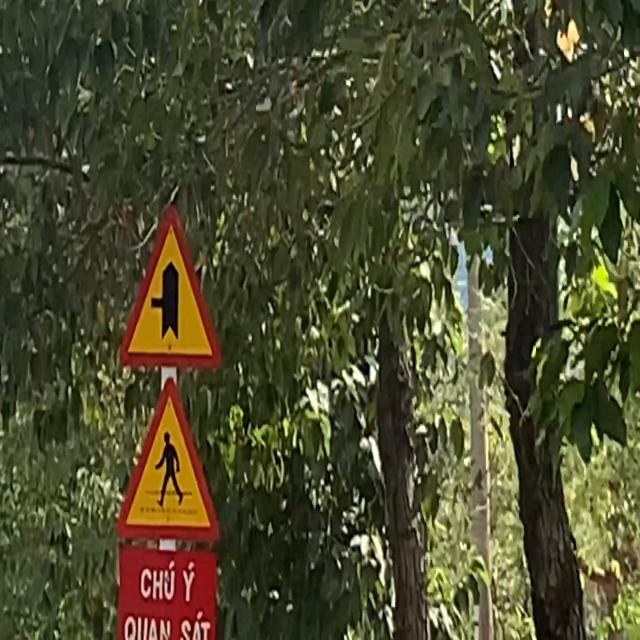Giao voi duong khong uu tien: (112, 200, 228, 376)
Nguoi di bo cat ngang: (113, 372, 222, 548)
